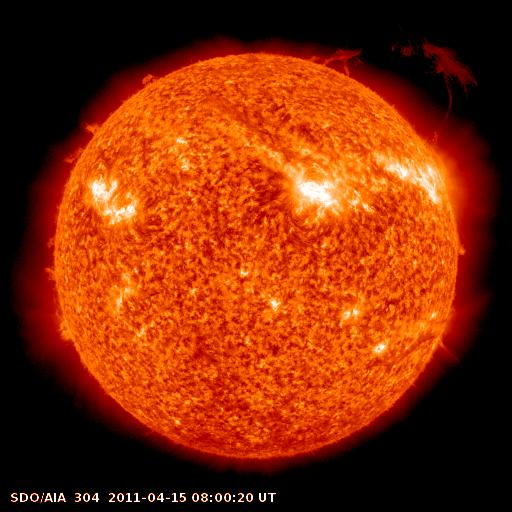prominence: (300, 26, 486, 152), (32, 262, 90, 351), (58, 113, 114, 169), (36, 199, 65, 252), (130, 64, 166, 92), (447, 236, 477, 265)
